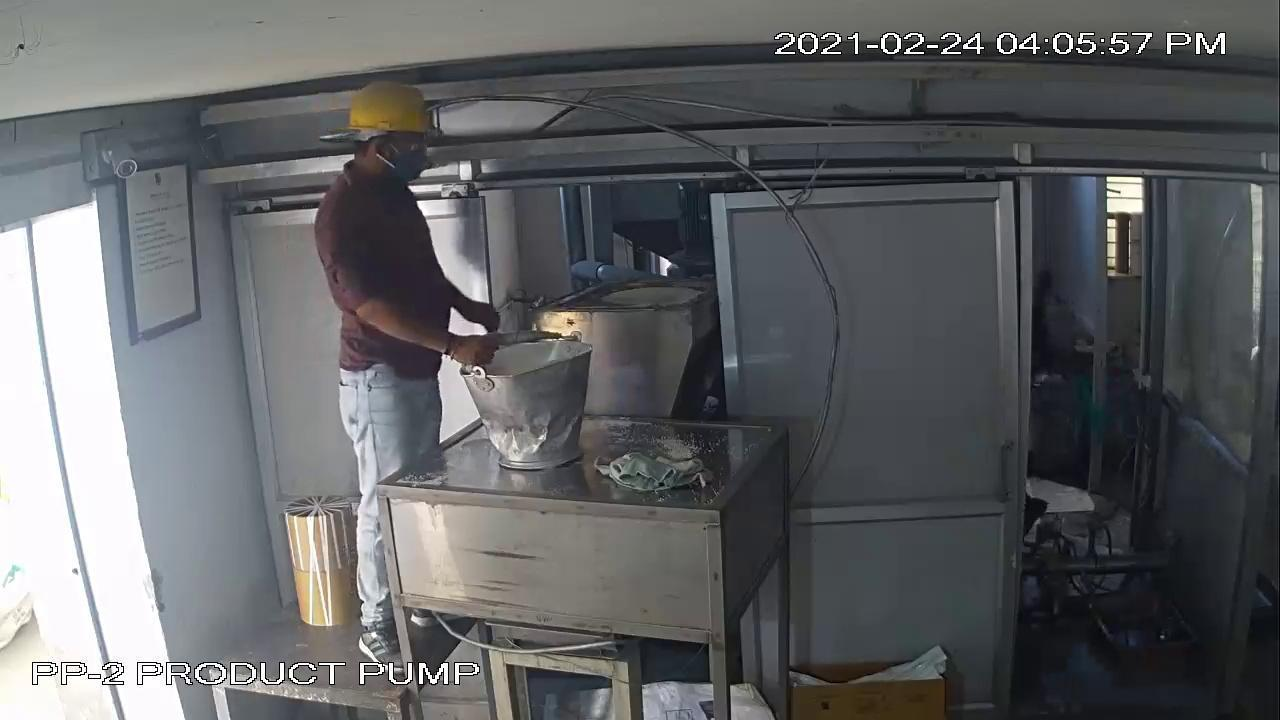helmet: (335, 74, 446, 145)
